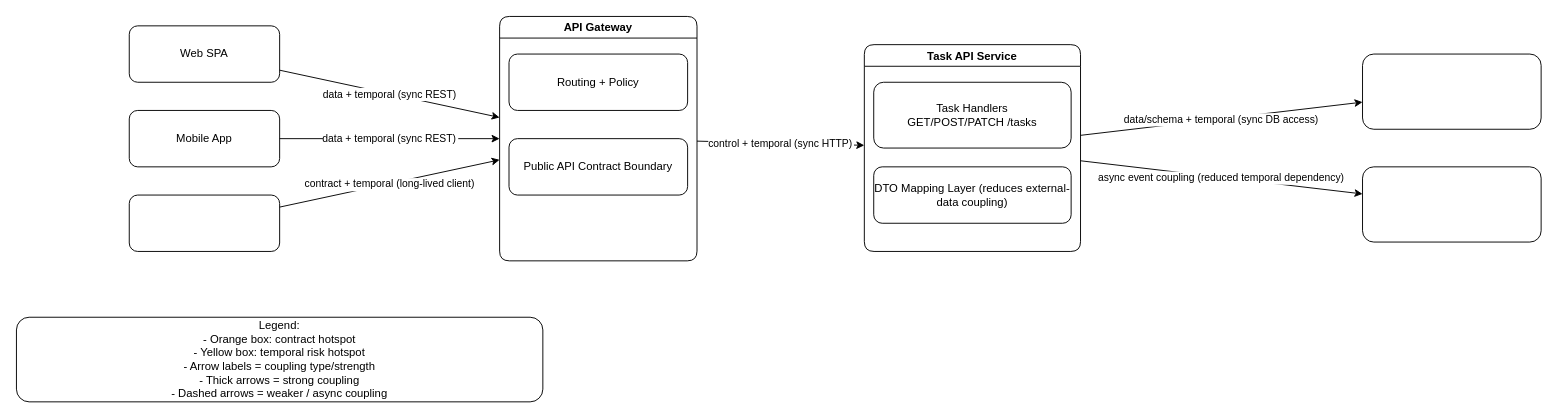
Some shapes in this 1558 by 418 pixel diagram are drawn without their labels. Here are the shapes that lost their labels. From the top down, the centre of each, then its label:
At point 1451,91: "Task Store (DB)".
At point 204,222: "Partner Client".
At point 1451,204: "Notification Service".
